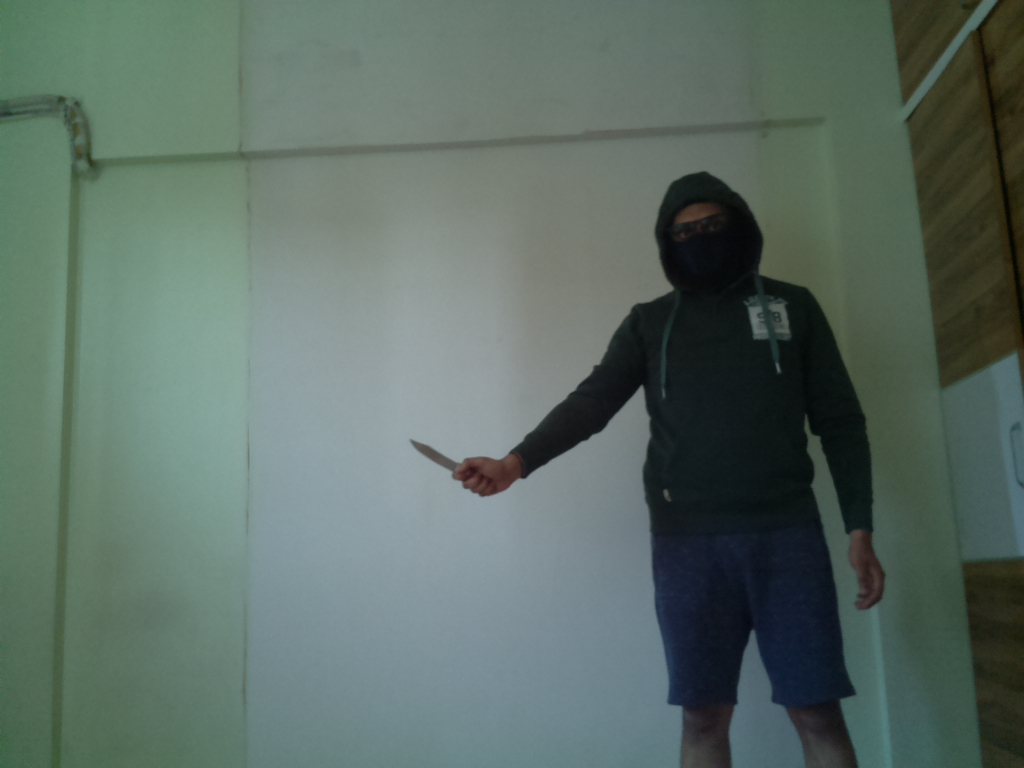knife: (404, 435, 478, 480)
